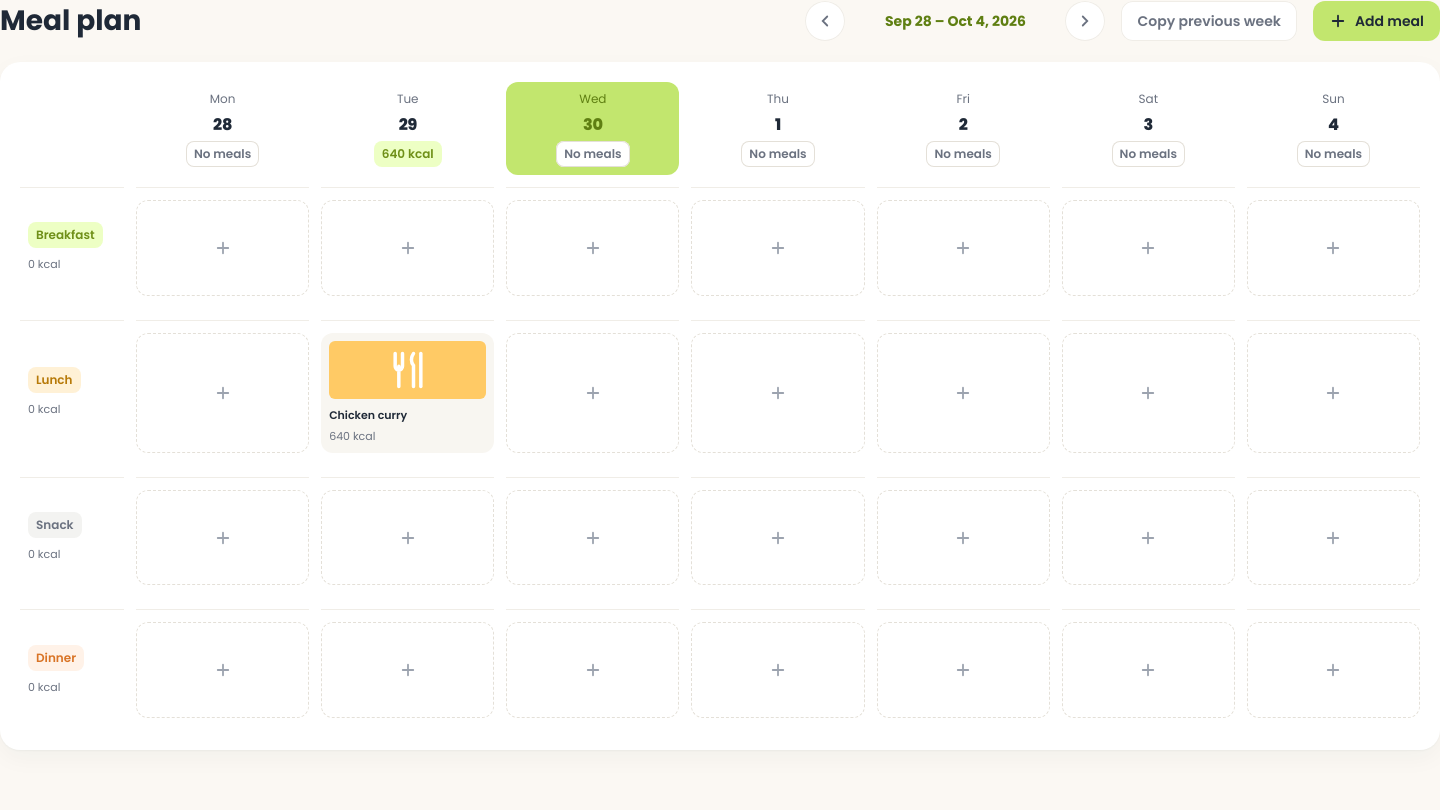
it: PlanPage › AC-4: changing servings doubles the kcal
Click the button "Chicken curry 640 kcal".
click(408, 393)  # box x1=321 y1=333 x2=494 y2=453
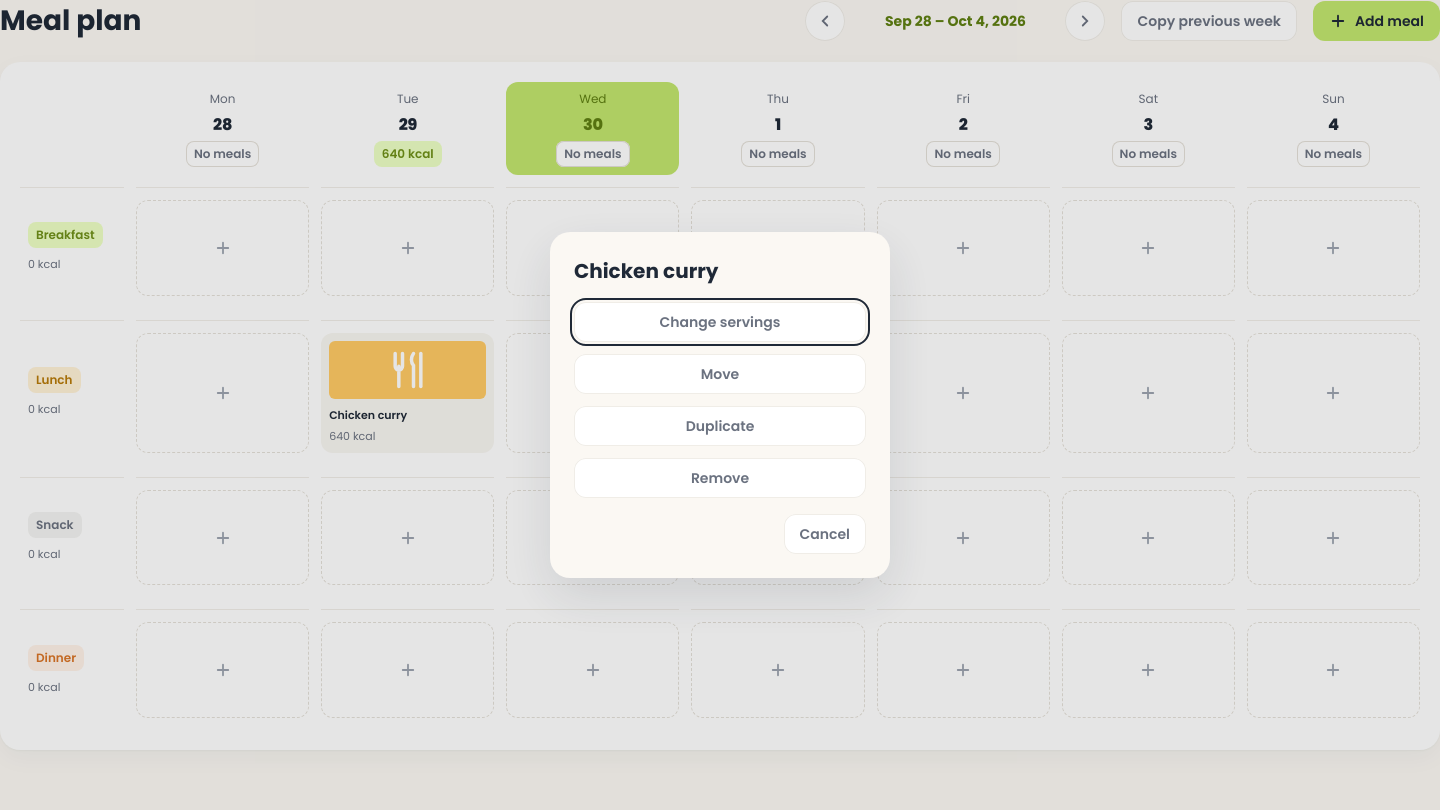
Click the button "Change servings".
click(720, 322)  # box x1=574 y1=302 x2=866 y2=342
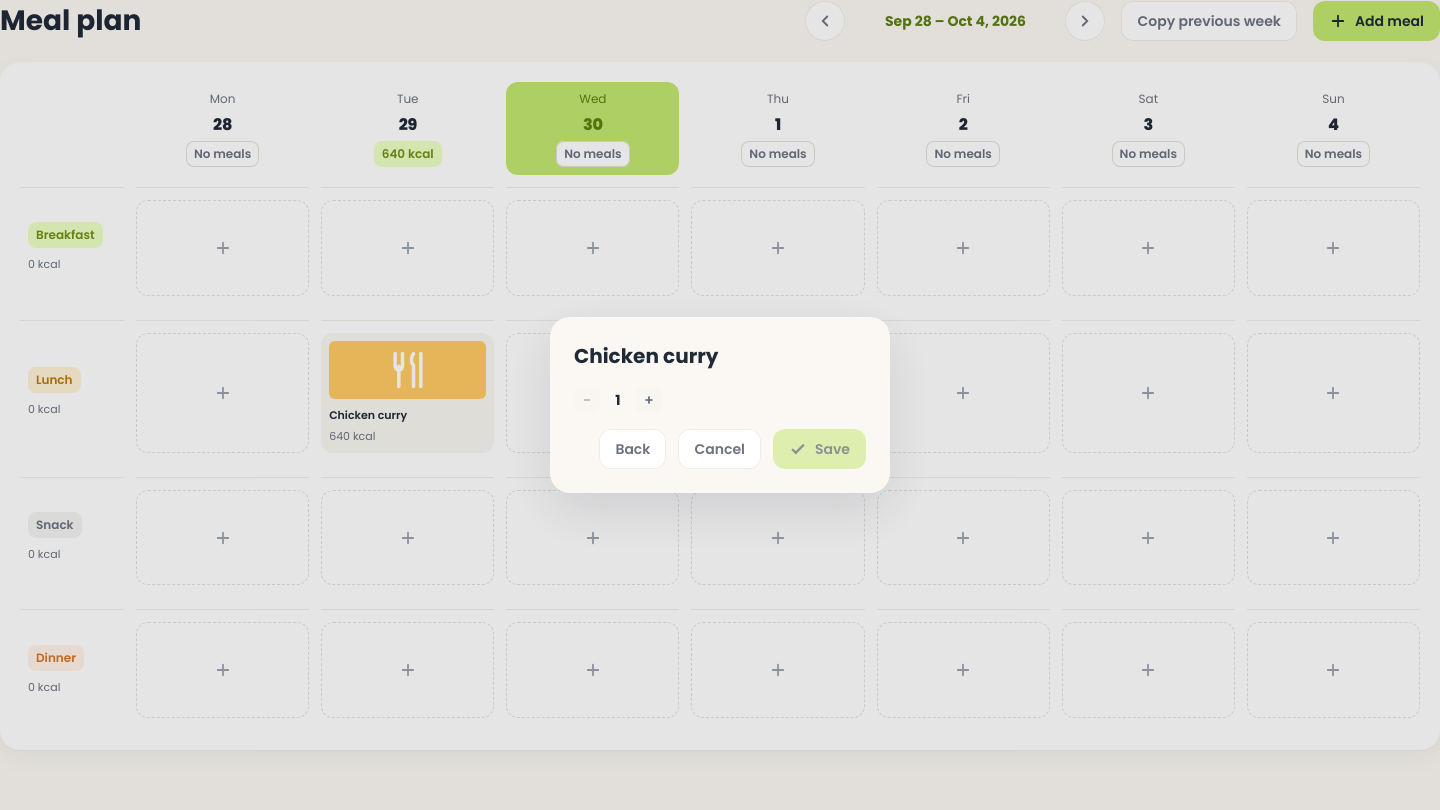
Click the button named "Increase Servings".
click(649, 400)  # box x1=636 y1=387 x2=662 y2=413
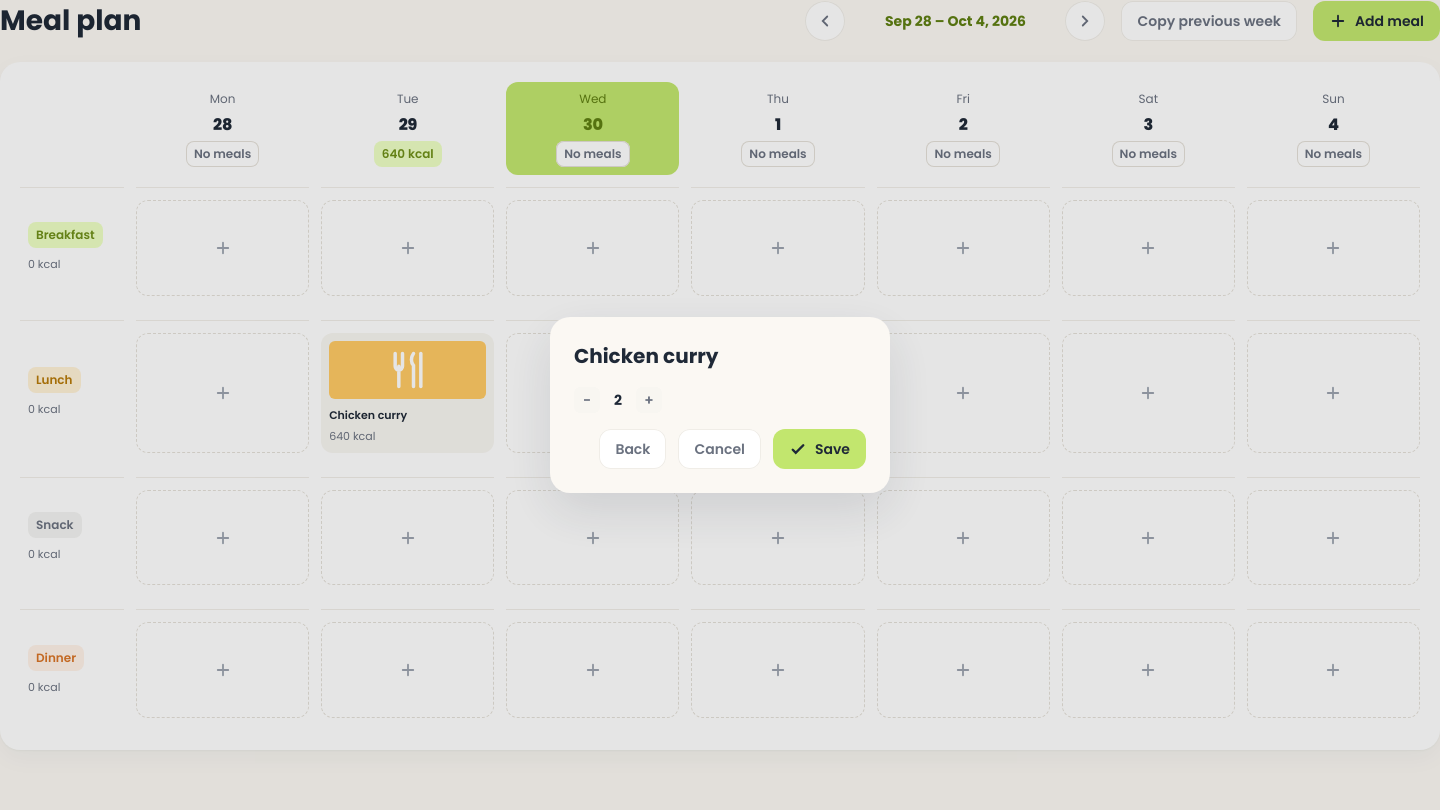
Click the button "Save".
click(820, 449)  # box x1=773 y1=429 x2=866 y2=469
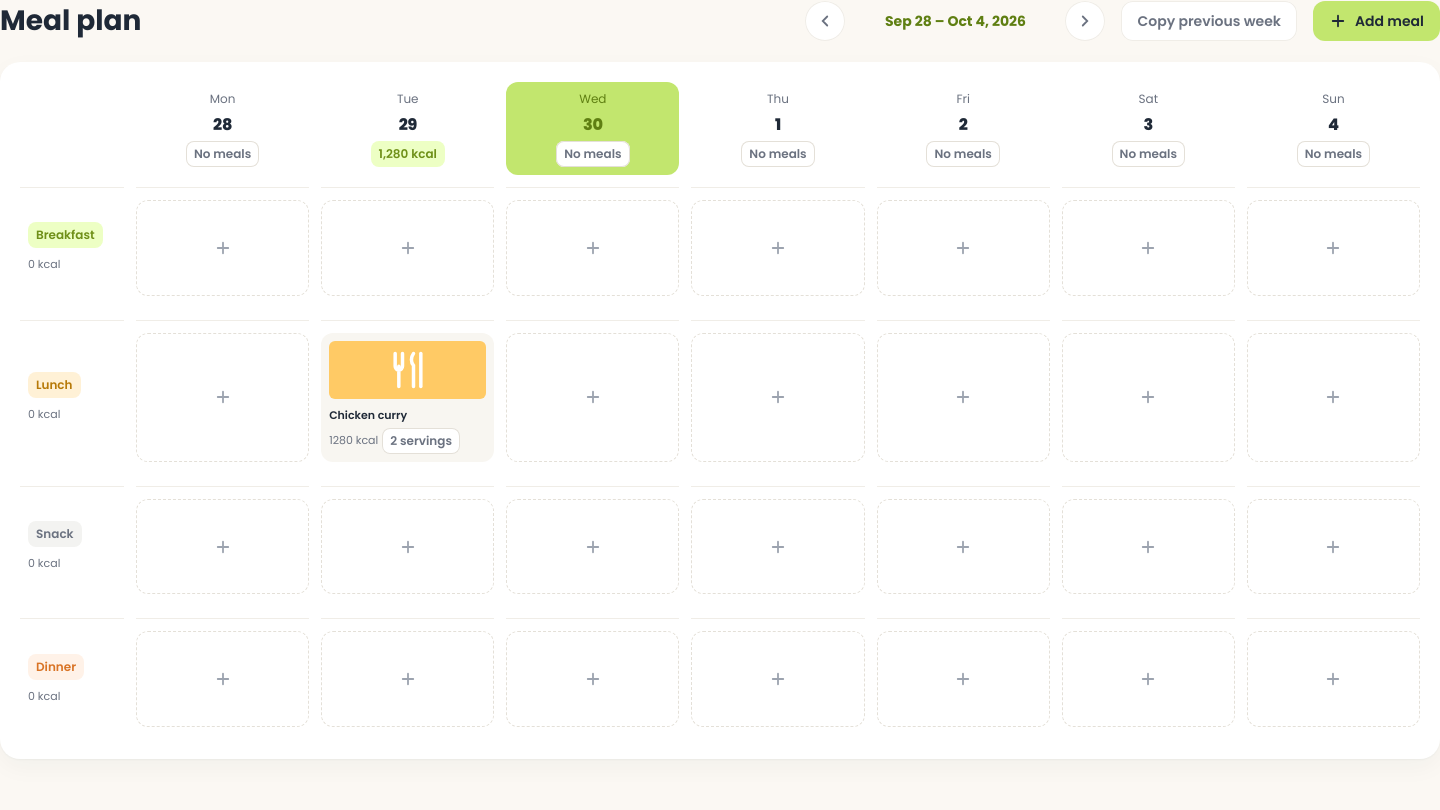
expect the button "Chicken curry 1280 kcal 2 servings" is shown: met, box x1=321 y1=333 x2=494 y2=462
